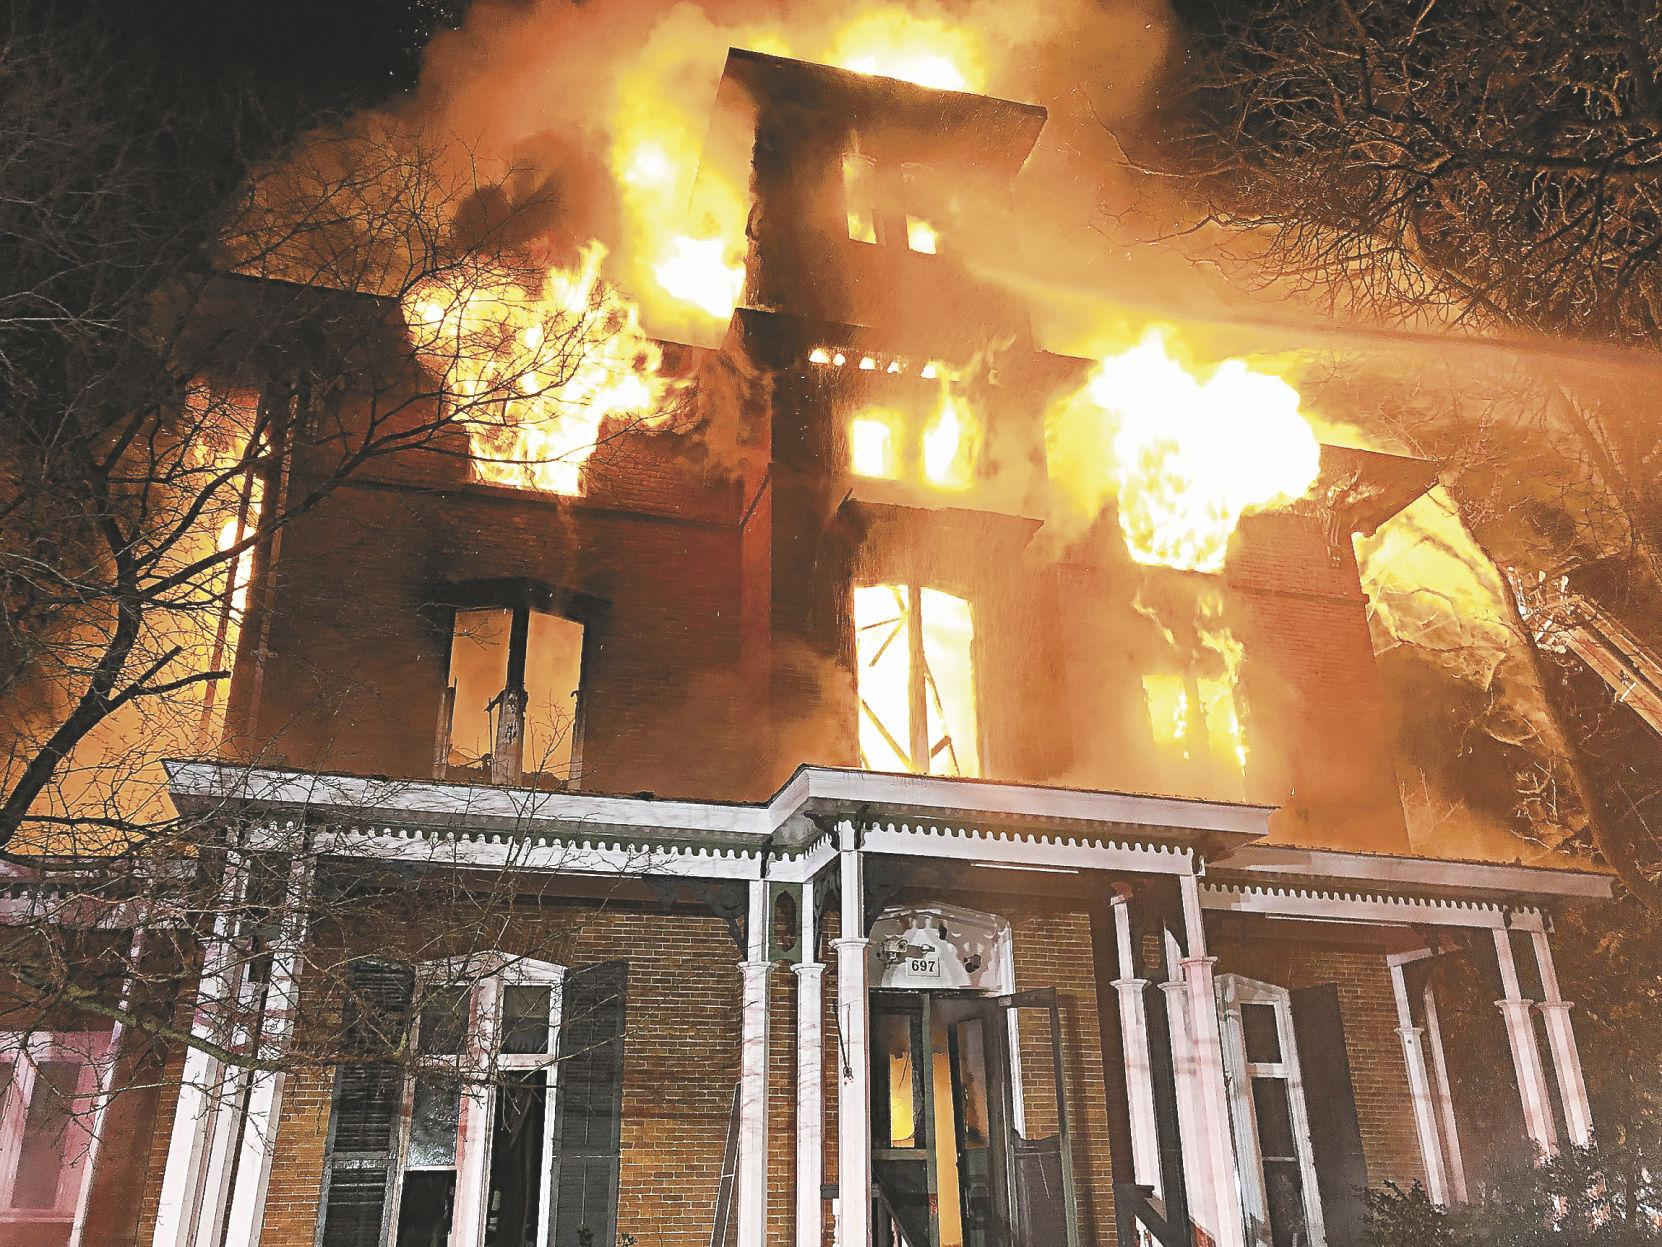Fire: (444, 42, 1316, 792)
